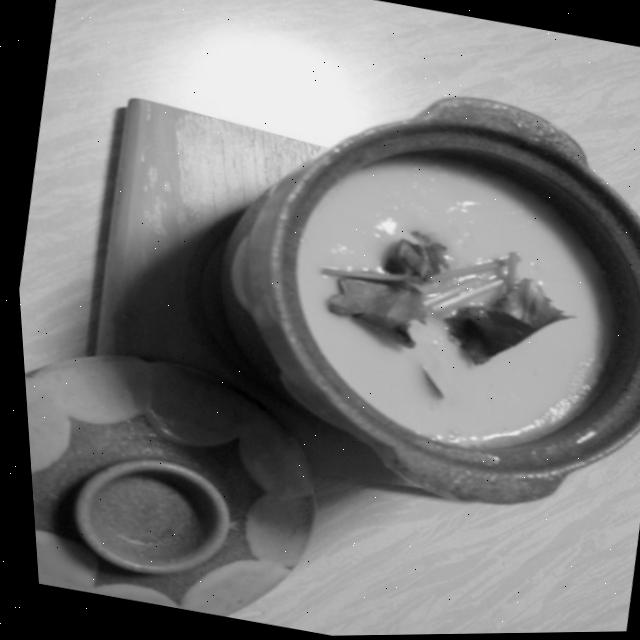鸡蛋料理: (169, 88, 640, 511)
